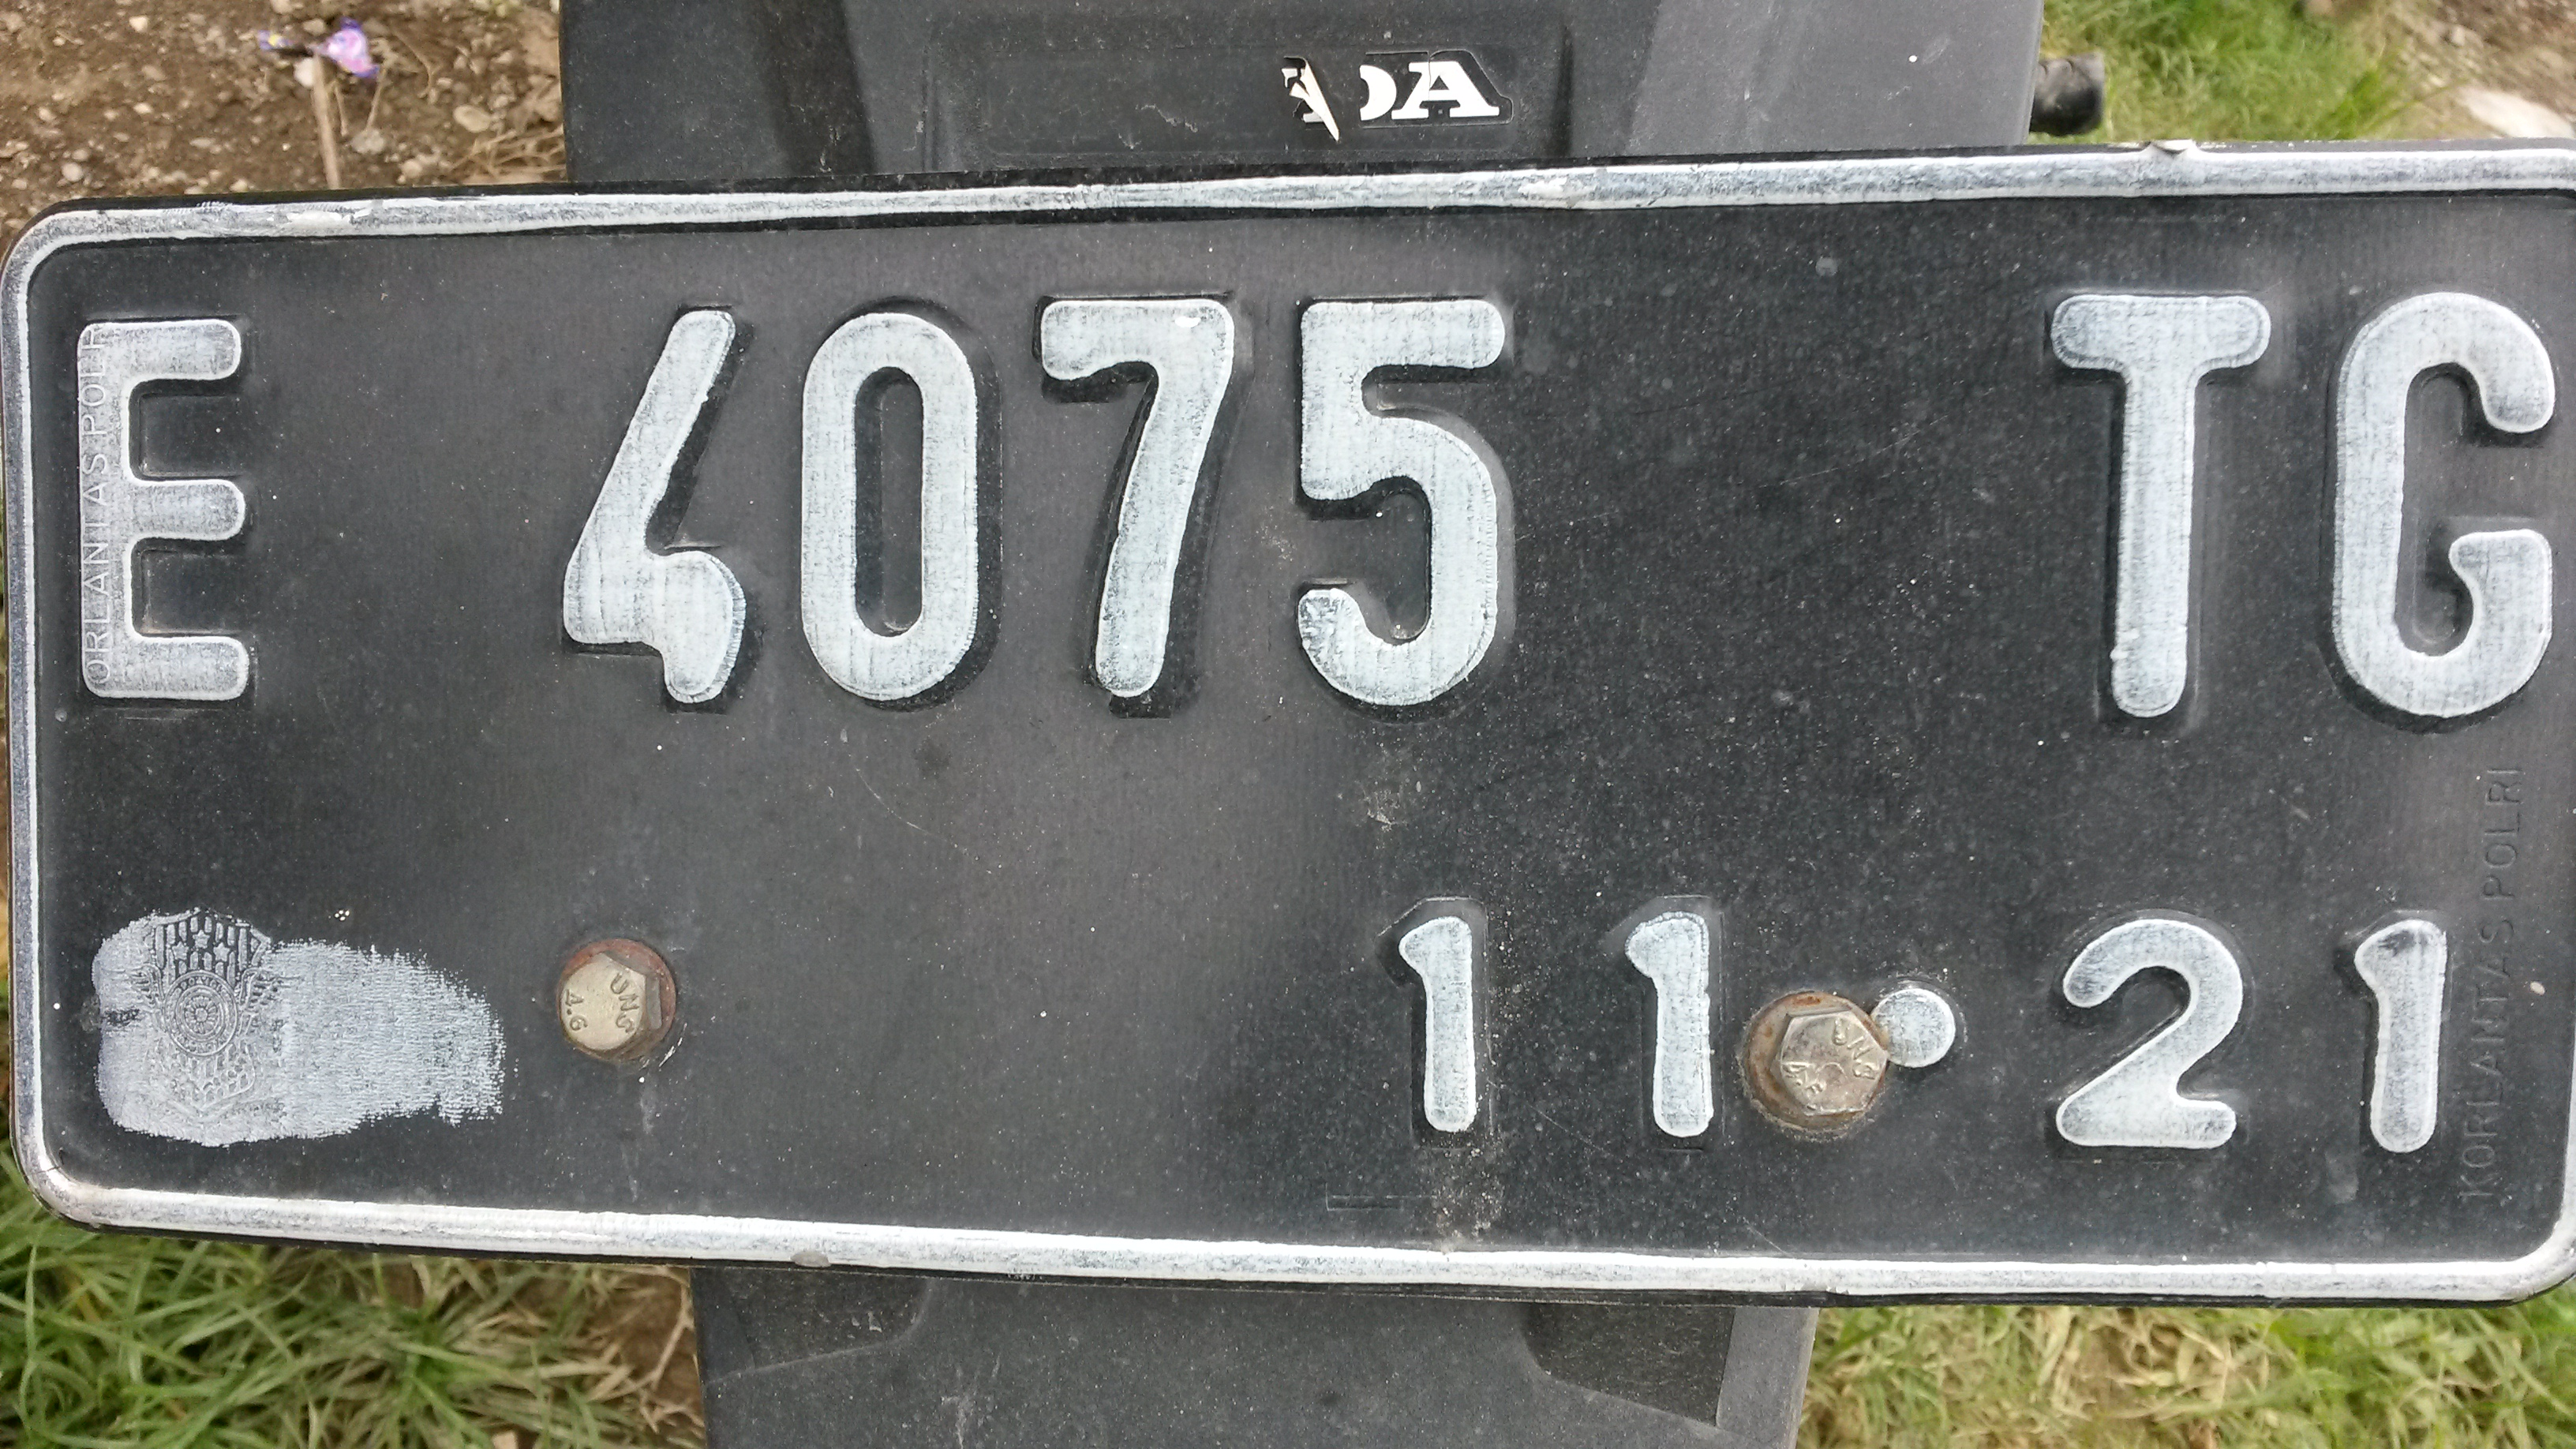plate: (5, 198, 2576, 1301)
